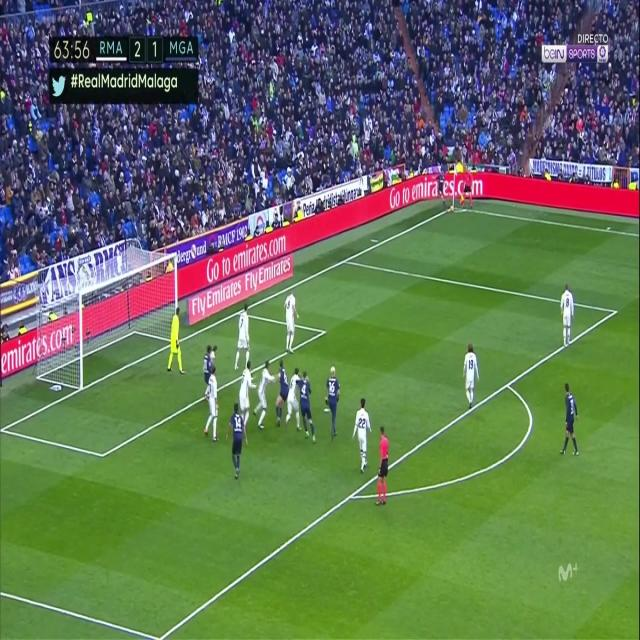Ball: (448, 204, 456, 215)
Goalkeeper: (165, 305, 188, 379)
Player: (225, 402, 251, 482), (294, 366, 319, 445), (351, 395, 374, 475), (252, 360, 276, 434), (558, 381, 580, 459), (232, 302, 253, 376), (323, 366, 341, 442), (463, 340, 481, 415), (204, 364, 220, 444), (283, 289, 301, 359), (238, 361, 257, 427), (286, 362, 303, 435), (273, 360, 289, 430), (560, 282, 574, 352), (202, 341, 212, 387)
Referee: (374, 424, 392, 508), (458, 165, 476, 210)
